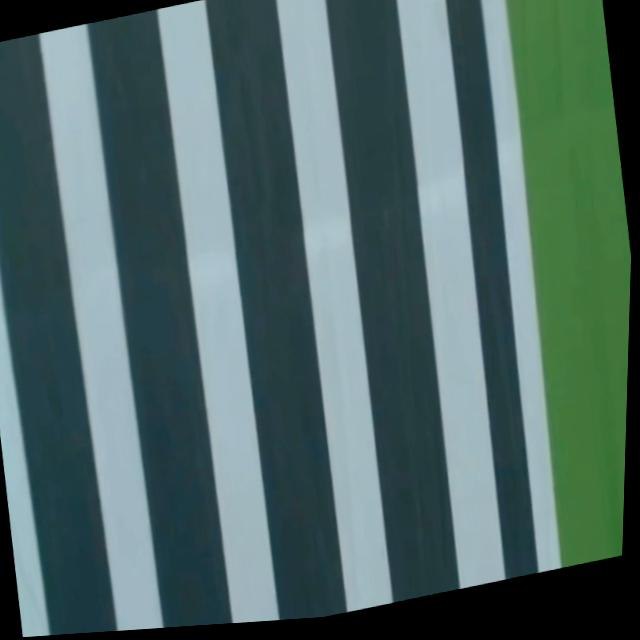right: (480, 0, 561, 573)
